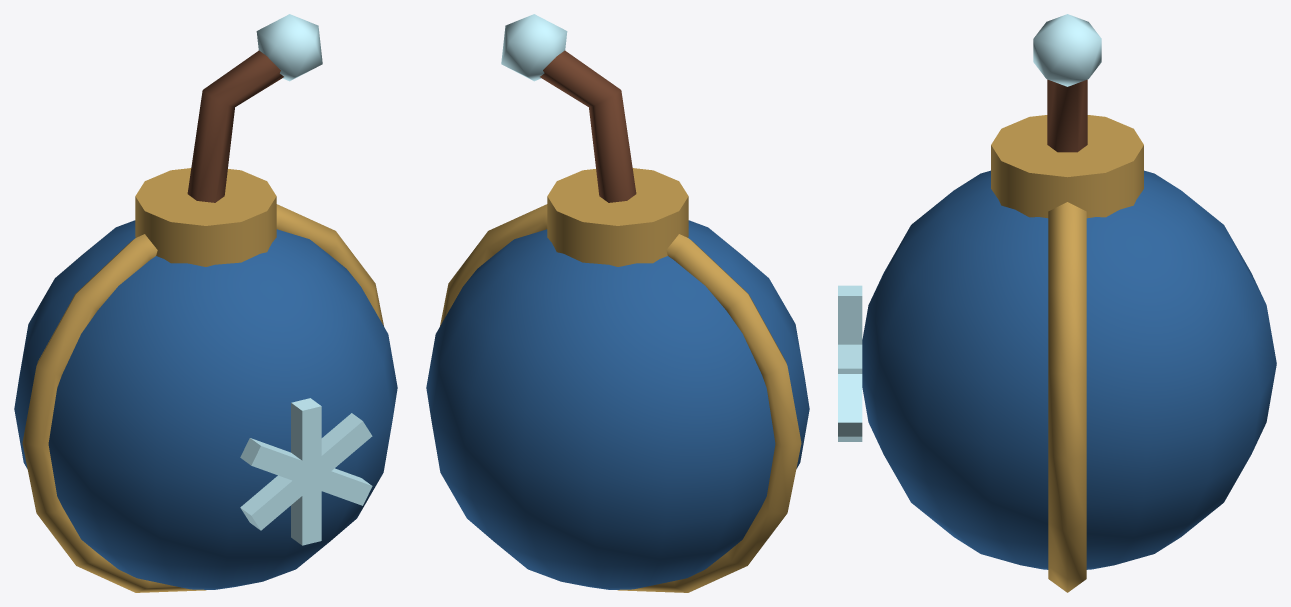
Rendered from ice_bomb.fbx.
3 renders of one model, left to right at view 1: azimuth 30°, elevation 25°; view 2: azimuth 150°, elevation 25°; view 3: azimuth 270°, elevation 25°, orthographic. The views are drawn at different scales.
Parts seen in each view (by area): view 1: ice_bomb; view 2: ice_bomb; view 3: ice_bomb.
Part boxes in pixels (x1=…): ice_bomb: x1=14, y1=14, x2=397, y2=592; ice_bomb: x1=426, y1=14, x2=809, y2=592; ice_bomb: x1=838, y1=14, x2=1276, y2=592.
Bounding box in the file's own units: 0.57 × 0.825 × 0.545.
